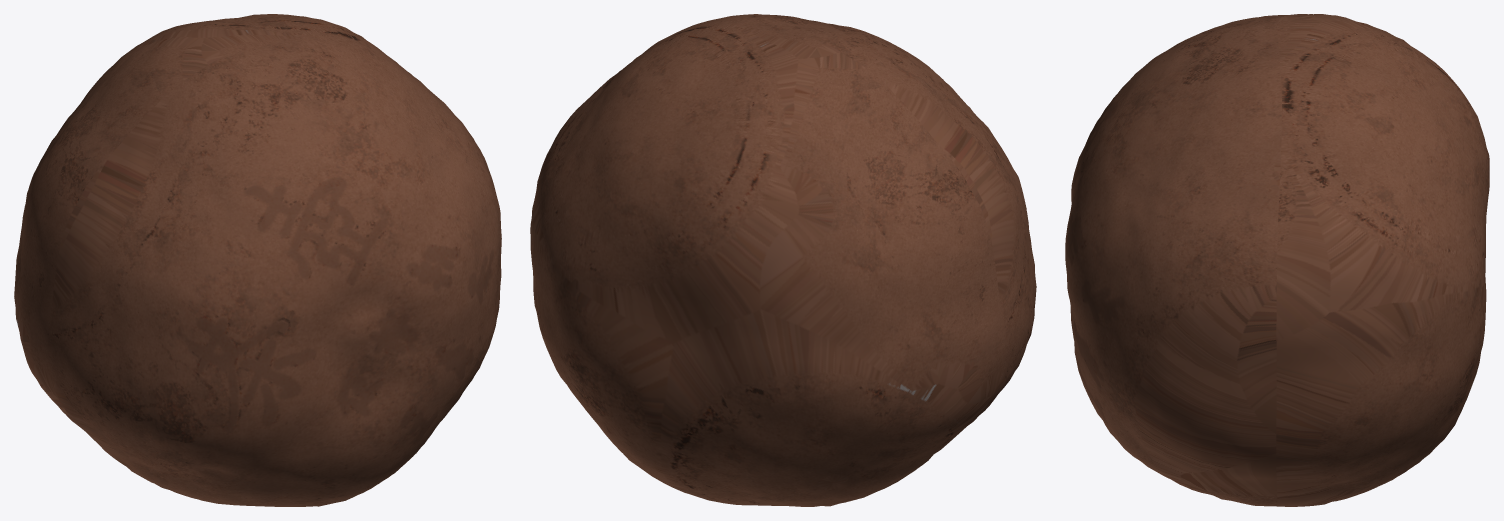
3 renders of one model, left to right at view 1: azimuth 30°, elevation 25°; view 2: azimuth 150°, elevation 25°; view 3: azimuth 270°, elevation 25°, orthographic. The views are drawn at different scales.
Bounding box in the file's own units: 1 × 0.996 × 0.8616.
